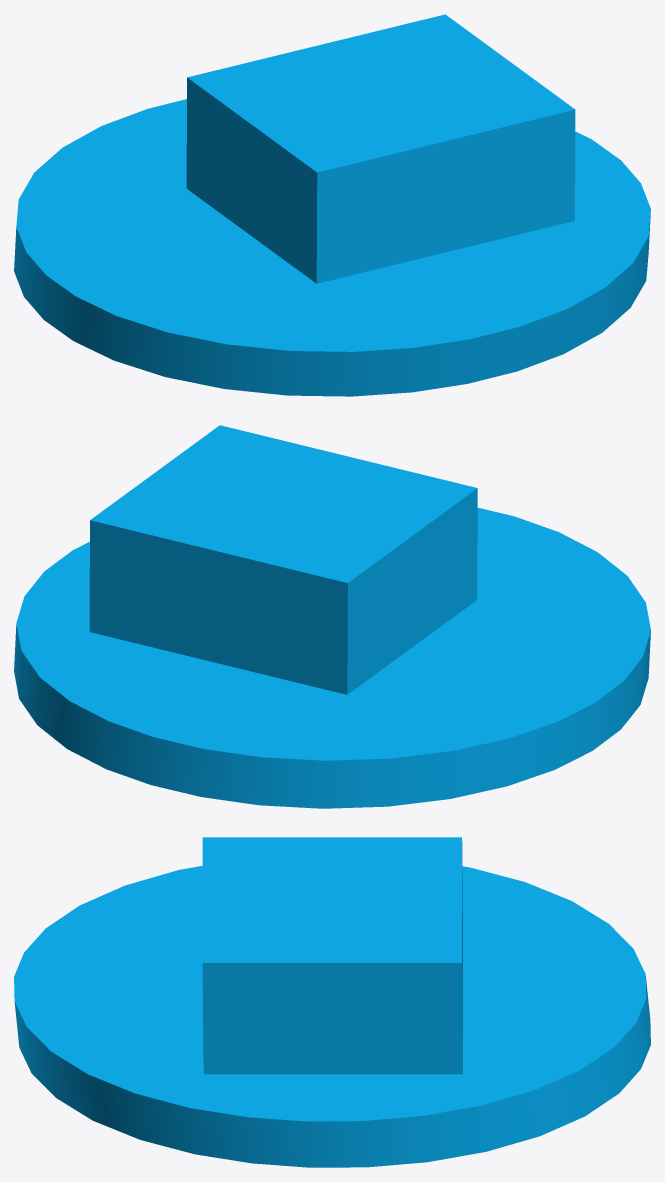
File: arm_base_collision.dae
3 views of the same model, one above another, from view 1: azimuth 30°, elevation 25°; view 2: azimuth 150°, elevation 25°; view 3: azimuth 270°, elevation 25° (orthographic).
Visible parts, largest first — view 1: Brep; view 2: Brep; view 3: Brep.
Boxes of the visible parts, x1,y1,x2,y2 form: Brep: (14,14,650,396); Brep: (14,425,650,808); Brep: (14,837,650,1167).
Size of the model in its own units: 0.122 by 0.1229 by 0.0336.
